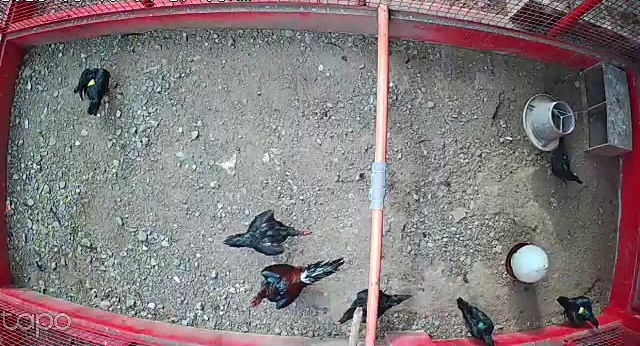Chicken: (223, 207, 317, 257), (336, 283, 413, 326), (454, 292, 498, 346), (555, 291, 606, 337), (543, 133, 586, 187), (74, 65, 111, 119)
Rooster: (247, 252, 346, 312)
Saddle_Color_Yellow: (85, 77, 98, 89)
Saddle_Color_YellowGreen: (578, 306, 589, 315)
